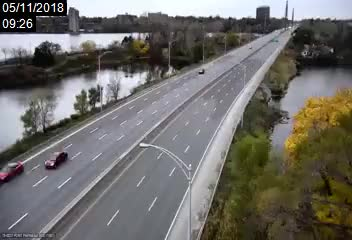personal_car: (1, 160, 24, 185), (44, 151, 67, 169), (198, 68, 205, 74)
